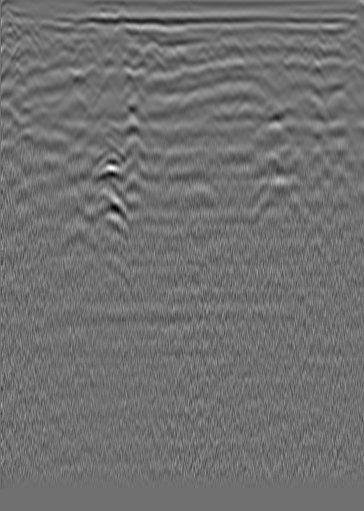가스: (85, 183, 130, 226)
상수: (323, 37, 343, 57)
우수: (195, 39, 215, 59)
